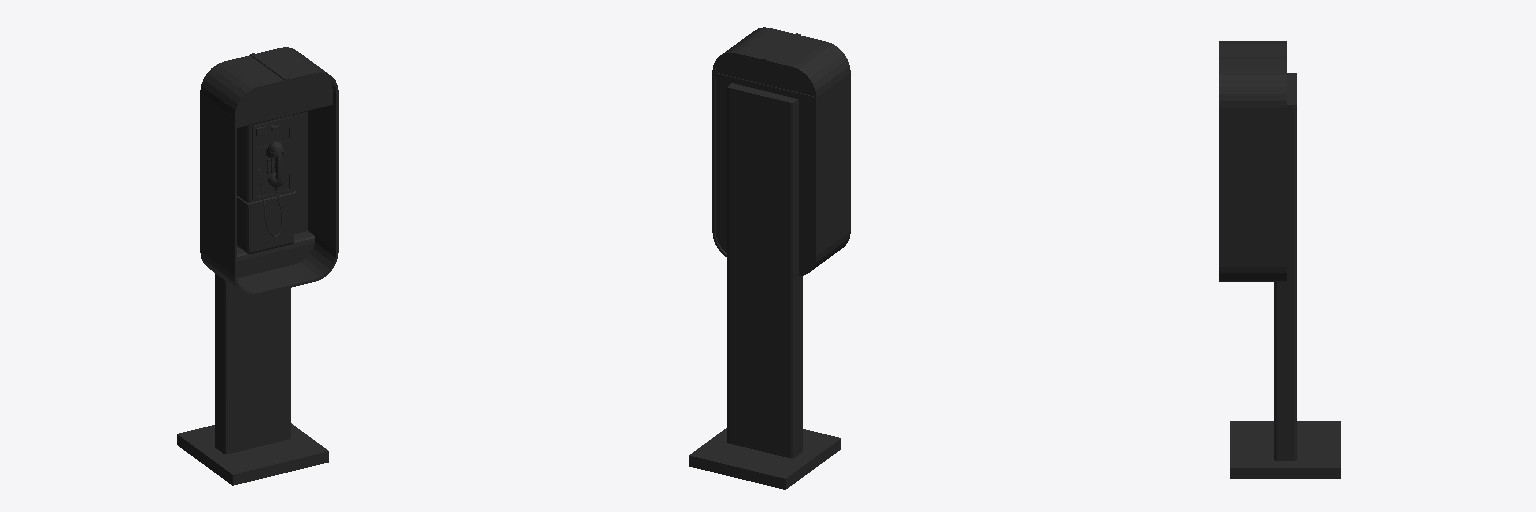
File: payphone_obj.obj
The picture shows the model from 3 angles: view 1: azimuth 30°, elevation 25°; view 2: azimuth 150°, elevation 25°; view 3: azimuth 270°, elevation 25°; orthographic projection.
Parts seen in each view (by area): view 1: payphone; view 2: payphone; view 3: payphone.
Boxes of the visible parts, x1=… form: payphone: x1=177, y1=47, x2=338, y2=485; payphone: x1=689, y1=27, x2=850, y2=489; payphone: x1=1219, y1=41, x2=1340, y2=478.
Size of the model in its own units: 17.23 by 63.19 by 17.63.